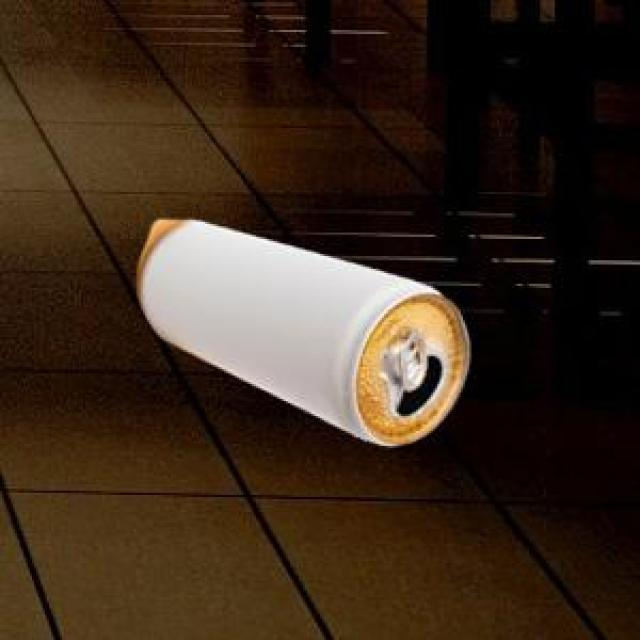Can: (133, 217, 466, 443)
